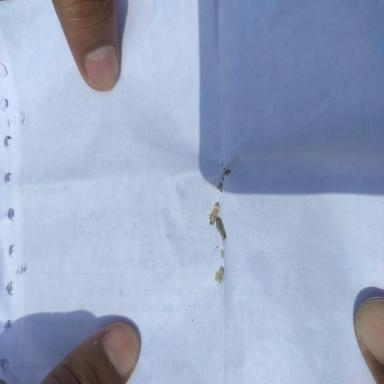pbw: (207, 201, 220, 225), (216, 217, 226, 247), (218, 263, 224, 285), (219, 248, 224, 260), (214, 271, 219, 282)
